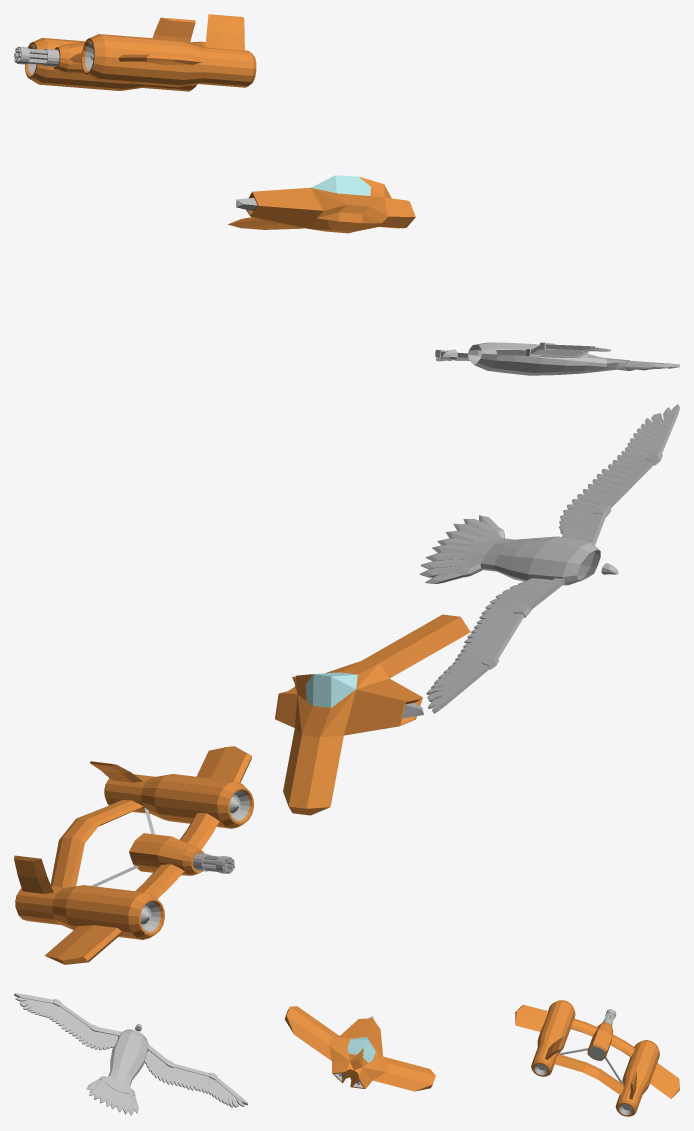
File: spaceship.fbx
3 views of the same model, one above another, from view 1: azimuth 30°, elevation 25°; view 2: azimuth 150°, elevation 25°; view 3: azimuth 270°, elevation 25° (orthographic). The views are drawn at different scales.
Visible parts, largest first — view 1: A-20 Spacehog, ship_main_body_1, Eagle; view 2: A-20 Spacehog, Eagle, ship_main_body_1; view 3: A-20 Spacehog, Eagle, ship_main_body_1.
Part boxes in pixels (bbox=[...]): A-20 Spacehog: bbox=[14, 14, 256, 91]; ship_main_body_1: bbox=[227, 175, 415, 233]; Eagle: bbox=[435, 342, 679, 375]; A-20 Spacehog: bbox=[14, 746, 253, 964]; Eagle: bbox=[419, 404, 679, 713]; ship_main_body_1: bbox=[275, 614, 470, 815]; A-20 Spacehog: bbox=[515, 1000, 679, 1116]; Eagle: bbox=[14, 993, 248, 1115]; ship_main_body_1: bbox=[284, 1006, 435, 1091].
Bounding box in the file's own units: 4717 × 781 × 1098.
